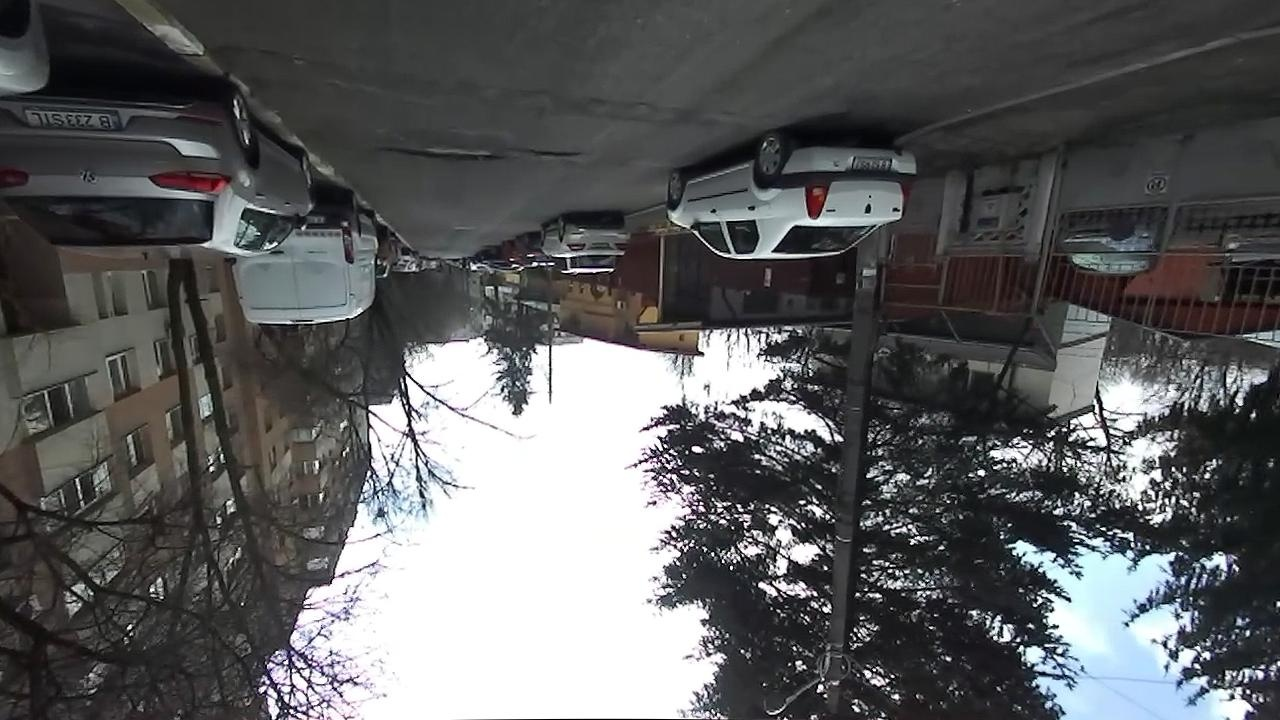pothole: (375, 141, 505, 164), (518, 146, 584, 160)
